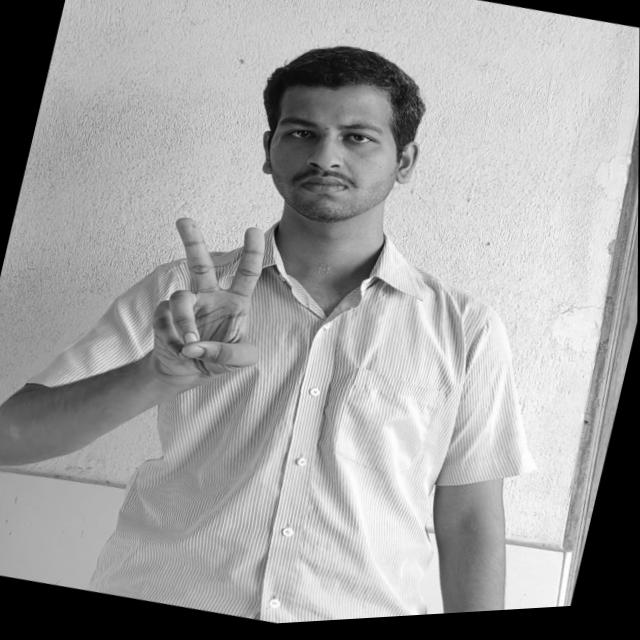Victory: (130, 211, 287, 402)
